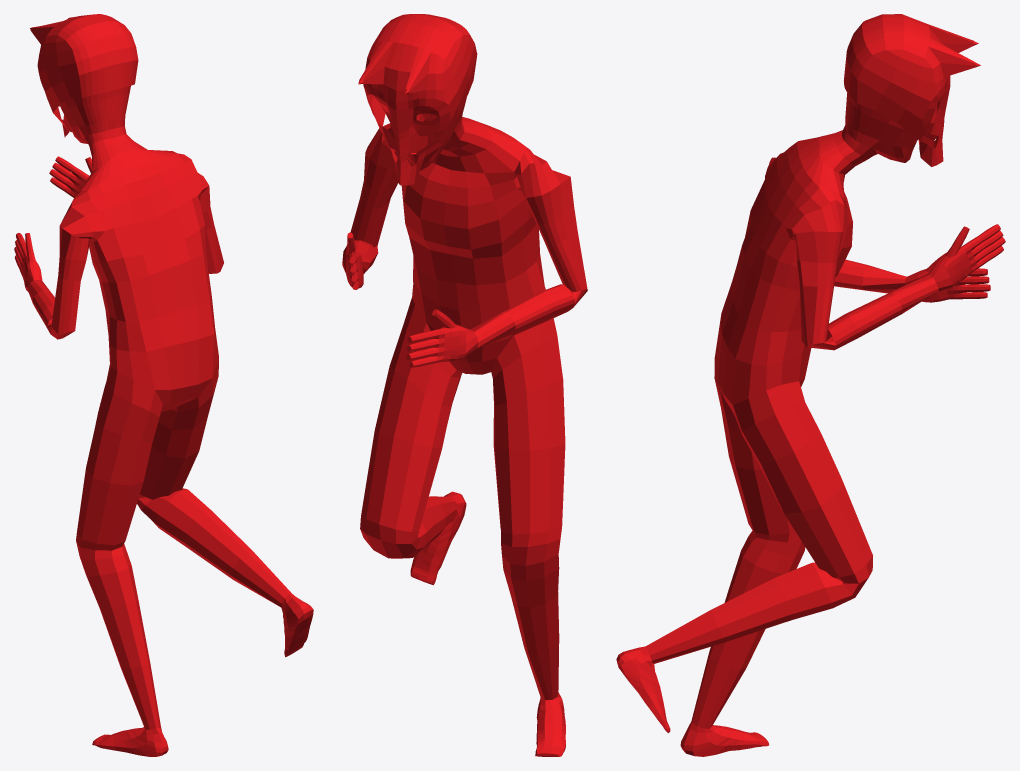
File: correrE_000092.obj
3 renders of one model, left to right at view 1: azimuth 30°, elevation 25°; view 2: azimuth 150°, elevation 25°; view 3: azimuth 270°, elevation 25°, orthographic. The views are drawn at different scales.
Parts seen in each view (by area): view 1: Plane.002_Plane.001; view 2: Plane.002_Plane.001; view 3: Plane.002_Plane.001.
Boxes of the visible parts, x1,y1,x2,y2 form: Plane.002_Plane.001: (14, 14, 313, 756); Plane.002_Plane.001: (342, 14, 587, 756); Plane.002_Plane.001: (616, 14, 1005, 756).
Bounding box in the file's own units: 2.1 × 6.64 × 3.13.
